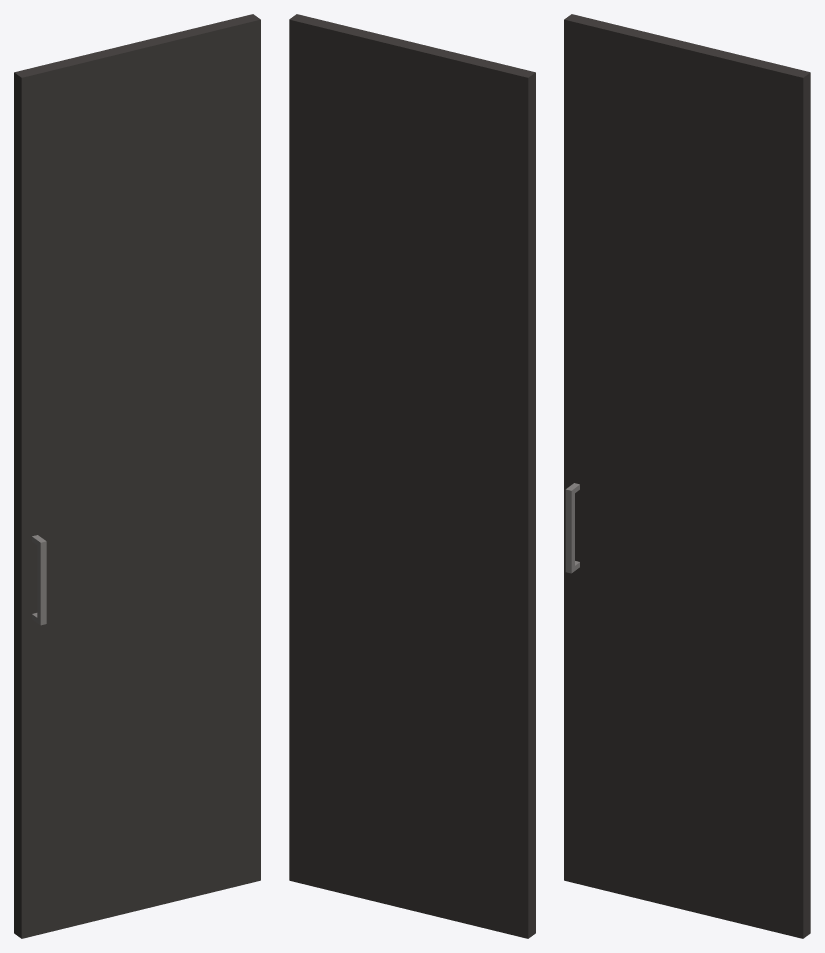
The model's file is Cupboard_05_03.fbx.
3 renders of one model, left to right at view 1: azimuth 30°, elevation 25°; view 2: azimuth 150°, elevation 25°; view 3: azimuth 330°, elevation 25°, orthographic.
Visible parts, largest first — view 1: Cupboard_05_03; view 2: Cupboard_05_03; view 3: Cupboard_05_03.
Boxes of the visible parts, <box> form: Cupboard_05_03: <box>14,14,260,938</box>; Cupboard_05_03: <box>289,14,535,938</box>; Cupboard_05_03: <box>564,14,810,938</box>.
Size of the model in its own units: 57.64 by 198 by 6.86.
